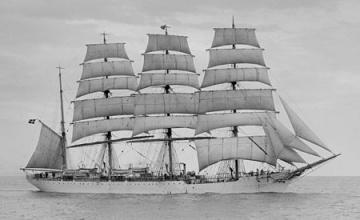fanchuan: (18, 13, 341, 197)
